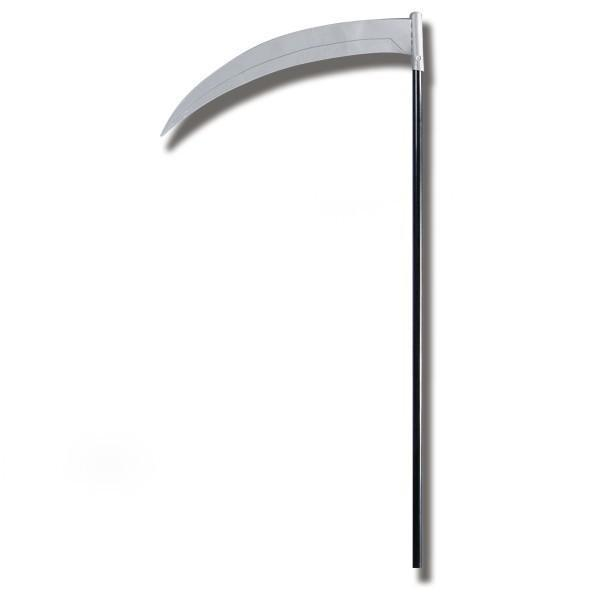foice: (163, 11, 432, 197)
